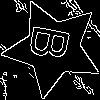B: (28, 23, 80, 65)
